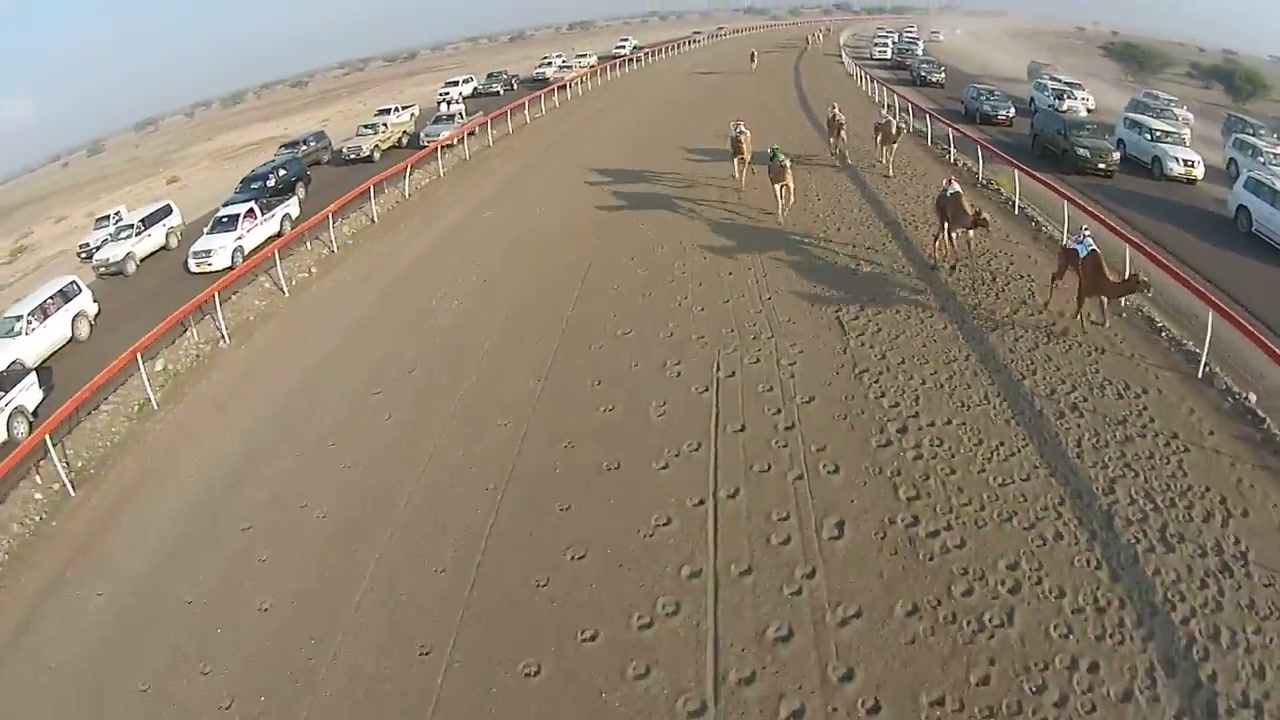animal_footprint: (495, 189, 1277, 717), (722, 267, 861, 716)
